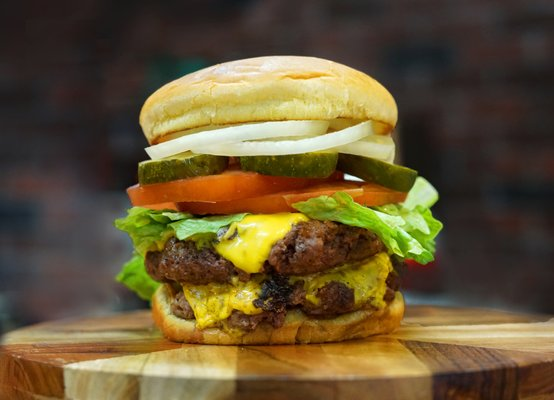soup: (114, 53, 444, 347)
